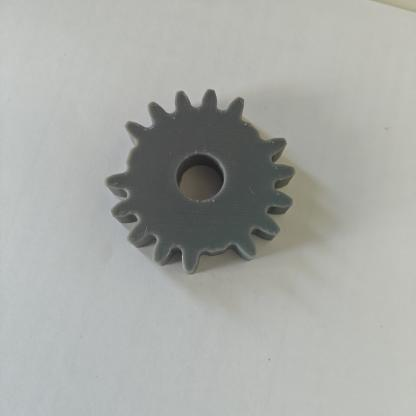defect: (80, 119, 156, 198), (174, 223, 260, 290), (226, 81, 297, 162)
gear: (70, 74, 326, 306)
